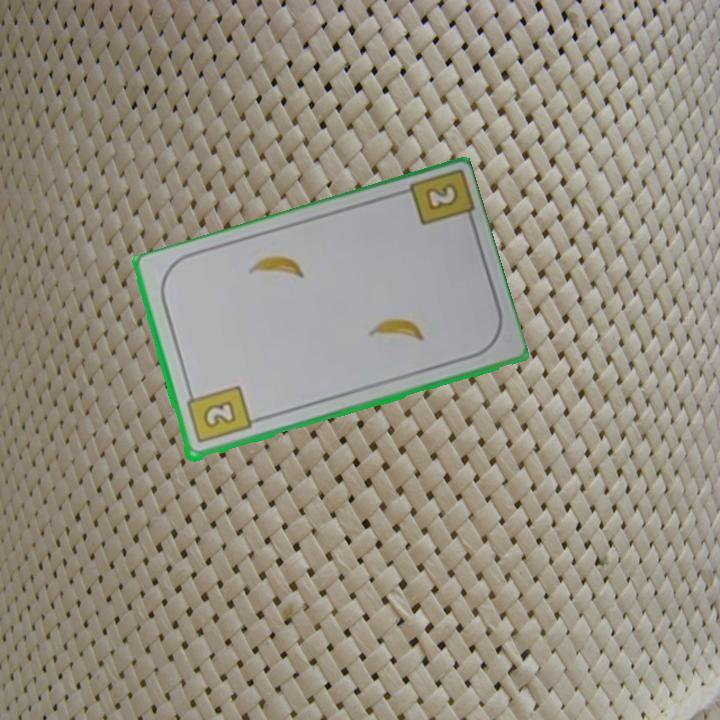2b: (182, 382, 254, 447), (420, 179, 461, 214)
